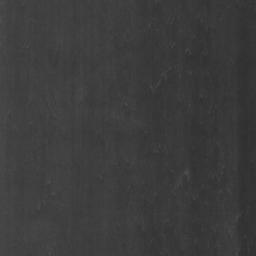Silk spot: (6, 0, 230, 256), (16, 173, 72, 256), (88, 4, 133, 57), (6, 215, 41, 256), (7, 0, 46, 33), (7, 72, 32, 112), (85, 44, 104, 74), (53, 158, 83, 176), (72, 204, 96, 224), (89, 174, 104, 195)
